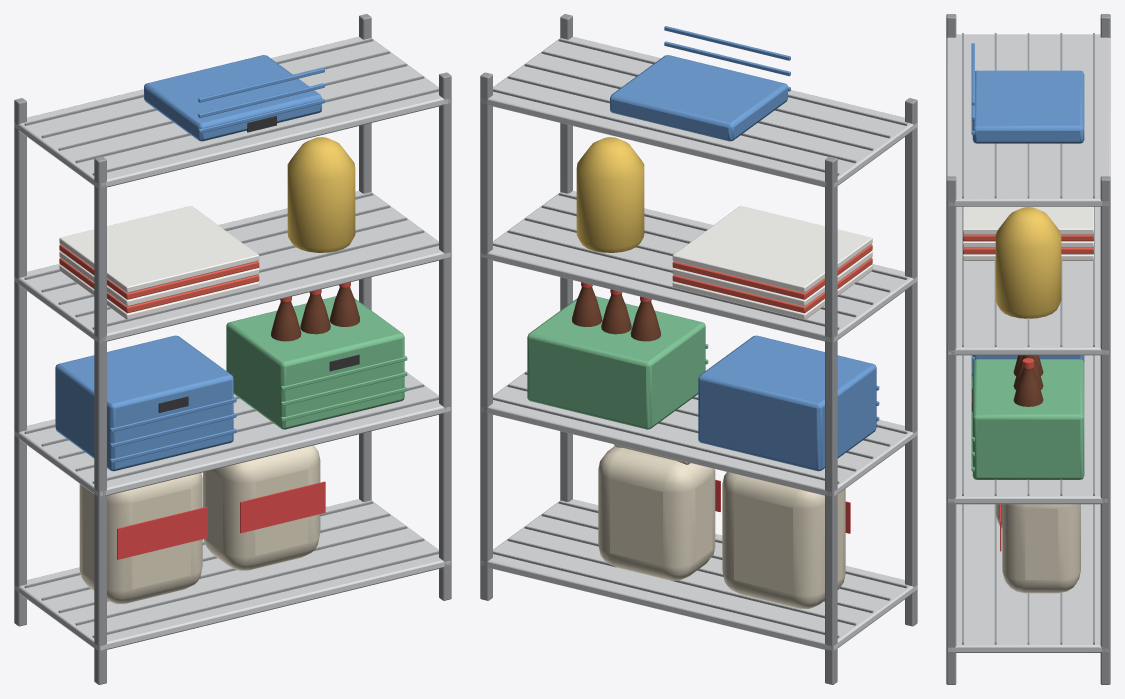
File: StorageRack.fbx
3 renders of one model, left to right at view 1: azimuth 30°, elevation 25°; view 2: azimuth 150°, elevation 25°; view 3: azimuth 270°, elevation 25°, orthographic. The views are drawn at different scales.
Parts seen in each view (by area): view 1: StorageRack; view 2: StorageRack; view 3: StorageRack.
Part boxes in pixels (left/top/right/bottom): StorageRack: left=14, top=14, right=451, bottom=684; StorageRack: left=480, top=14, right=917, bottom=684; StorageRack: left=946, top=14, right=1110, bottom=684.
Size of the model in its own units: 1.2 by 1.78 by 0.5.
